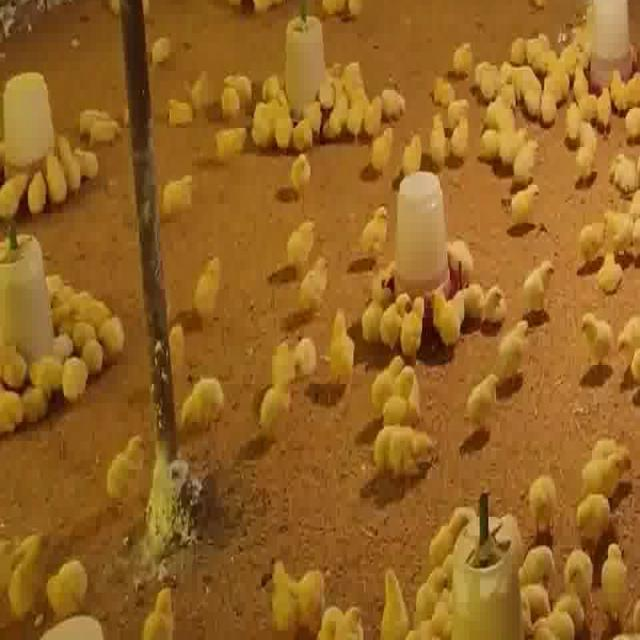poussin: (265, 557, 328, 633), (101, 432, 145, 514), (366, 424, 439, 471), (373, 358, 422, 427), (4, 531, 41, 622), (361, 574, 410, 640), (582, 440, 636, 498), (318, 311, 354, 391), (181, 374, 223, 442), (254, 372, 298, 436), (48, 556, 90, 618), (307, 598, 369, 640), (519, 257, 560, 318), (427, 508, 469, 566), (138, 580, 178, 640), (269, 336, 319, 384), (498, 316, 536, 376), (534, 594, 583, 640), (284, 212, 322, 271), (576, 310, 614, 368), (528, 471, 562, 534), (160, 171, 199, 224), (428, 288, 460, 351), (362, 287, 393, 350), (466, 372, 504, 422), (557, 546, 593, 598), (614, 316, 640, 388), (362, 196, 393, 256), (0, 169, 33, 224), (302, 259, 334, 315), (216, 72, 252, 120), (568, 499, 611, 539), (602, 541, 624, 619), (152, 93, 196, 132), (192, 257, 218, 322), (466, 279, 508, 319), (414, 564, 446, 616), (212, 123, 248, 167), (605, 217, 640, 261), (504, 185, 544, 223), (385, 294, 412, 348), (367, 129, 398, 174), (473, 56, 506, 98), (403, 298, 428, 352), (61, 354, 90, 400), (286, 154, 316, 198), (426, 116, 448, 172), (71, 146, 101, 187), (514, 68, 540, 114), (44, 159, 68, 207), (608, 153, 636, 194), (446, 41, 472, 84), (502, 123, 530, 162), (47, 284, 86, 312), (28, 355, 62, 387), (0, 394, 24, 439), (57, 146, 83, 187), (524, 542, 552, 580), (344, 97, 366, 145), (191, 66, 214, 111), (19, 390, 49, 424), (250, 104, 272, 150), (429, 74, 460, 106), (102, 315, 125, 358), (379, 86, 406, 122), (90, 116, 120, 148), (28, 168, 48, 216), (147, 31, 170, 70), (598, 256, 624, 290), (0, 350, 26, 384), (611, 72, 631, 116), (289, 119, 314, 154), (272, 107, 291, 153), (580, 223, 604, 259), (516, 139, 536, 180), (570, 60, 588, 104), (339, 62, 362, 96), (322, 99, 340, 142), (452, 118, 470, 160), (366, 92, 384, 134), (508, 34, 530, 68), (487, 97, 511, 127), (446, 93, 470, 123), (481, 130, 500, 166), (86, 336, 104, 374), (85, 293, 111, 319), (68, 321, 95, 346), (572, 150, 596, 178), (598, 90, 614, 132), (576, 122, 598, 152), (542, 72, 568, 96), (406, 138, 423, 174), (564, 104, 580, 141), (542, 88, 556, 128), (52, 333, 72, 360), (56, 303, 76, 327), (533, 52, 559, 70), (528, 33, 544, 61)
